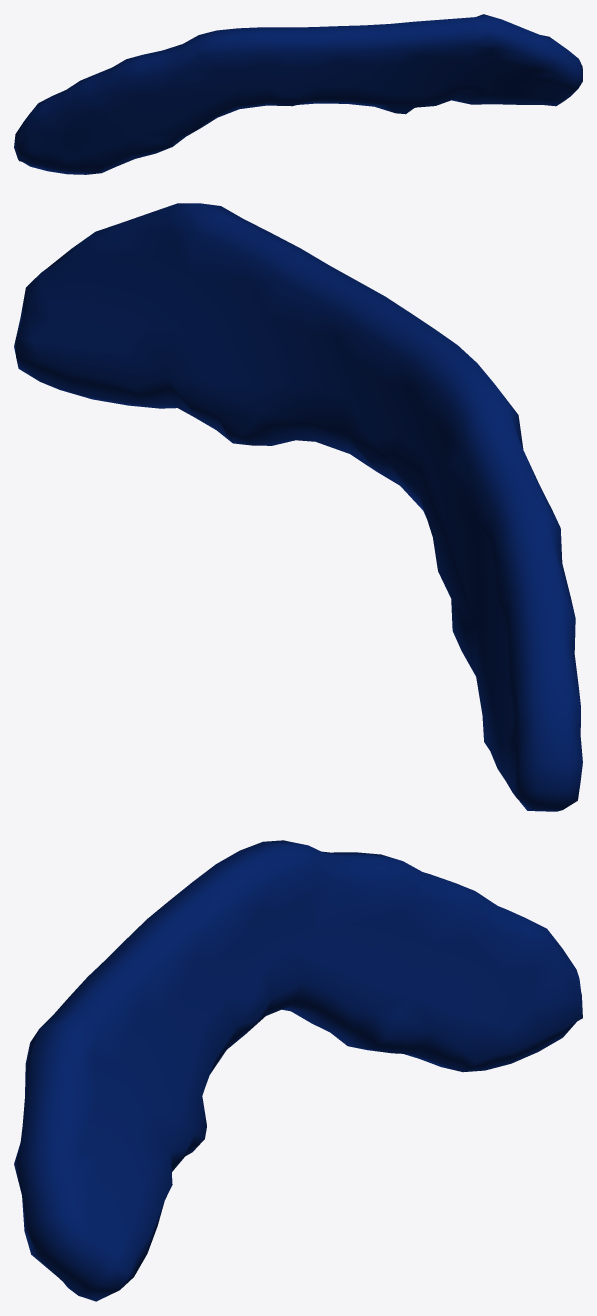
File: eyebrow1.glb
The picture shows the model from 3 angles, top to bottom: view 1: azimuth 30°, elevation 25°; view 2: azimuth 150°, elevation 25°; view 3: azimuth 270°, elevation 25°; orthographic projection. The views are drawn at different scales.
Parts seen in each view (by area): view 1: Mesh.005; view 2: Mesh.005; view 3: Mesh.005.
Boxes of the visible parts, x1=… form: Mesh.005: x1=14, y1=14, x2=582, y2=174; Mesh.005: x1=14, y1=203, x2=582, y2=811; Mesh.005: x1=14, y1=840, x2=582, y2=1301.
Bounding box in the file's own units: 0.4354 × 0.1598 × 0.2652.
